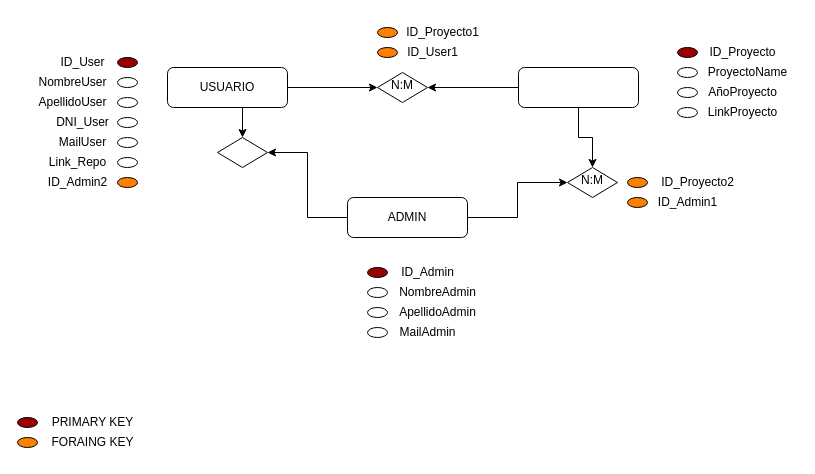
Some shapes in this 815 by 474 pixel diagram are drawn without their labels. The shapes that lost their labels are listed below. From the top down, each one's centre as x and y in pixels, then its label:
the point at 578,87: PROYECTO
the point at 242,152: 1:N
